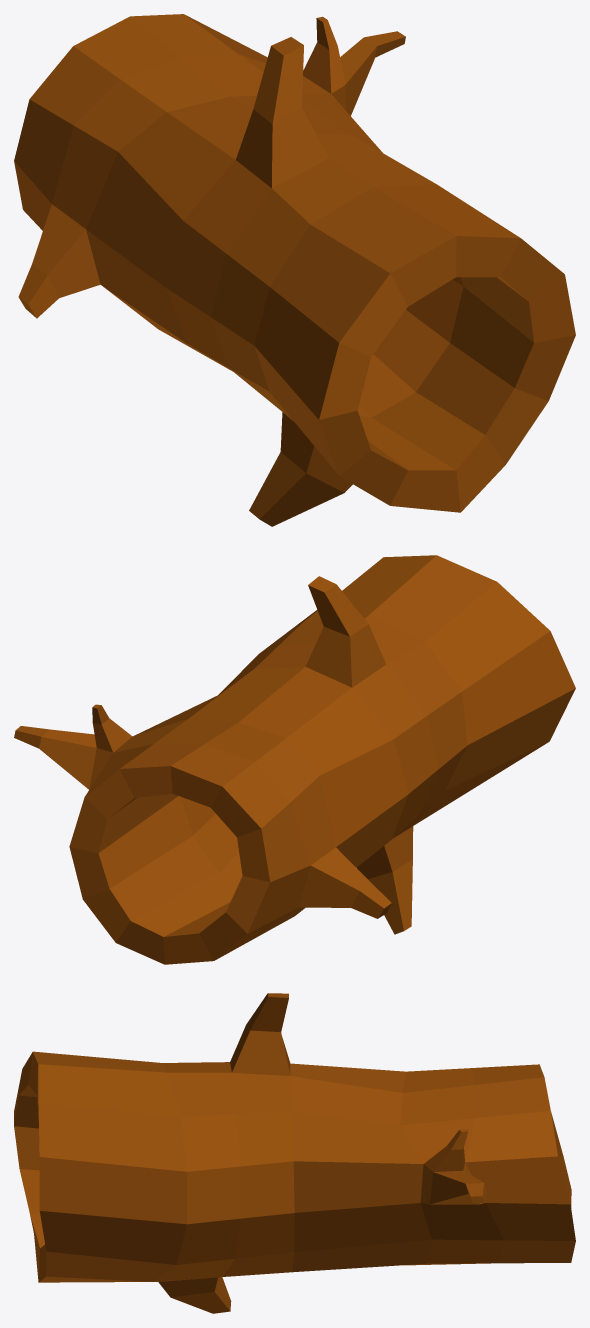
Rendered from Empty_Trunk_01.fbx.
3 views of the same model, one above another, from view 1: azimuth 30°, elevation 25°; view 2: azimuth 150°, elevation 25°; view 3: azimuth 270°, elevation 25° (orthographic). The views are drawn at different scales.
Visible parts, largest first — view 1: Empty_Trunk_01; view 2: Empty_Trunk_01; view 3: Empty_Trunk_01.
Part boxes in pixels (x1,y1,x2,y2): Empty_Trunk_01: (14, 14, 575, 526); Empty_Trunk_01: (14, 555, 575, 964); Empty_Trunk_01: (14, 993, 575, 1313).
Bounding box in the file's own units: 365 × 370 × 551.
